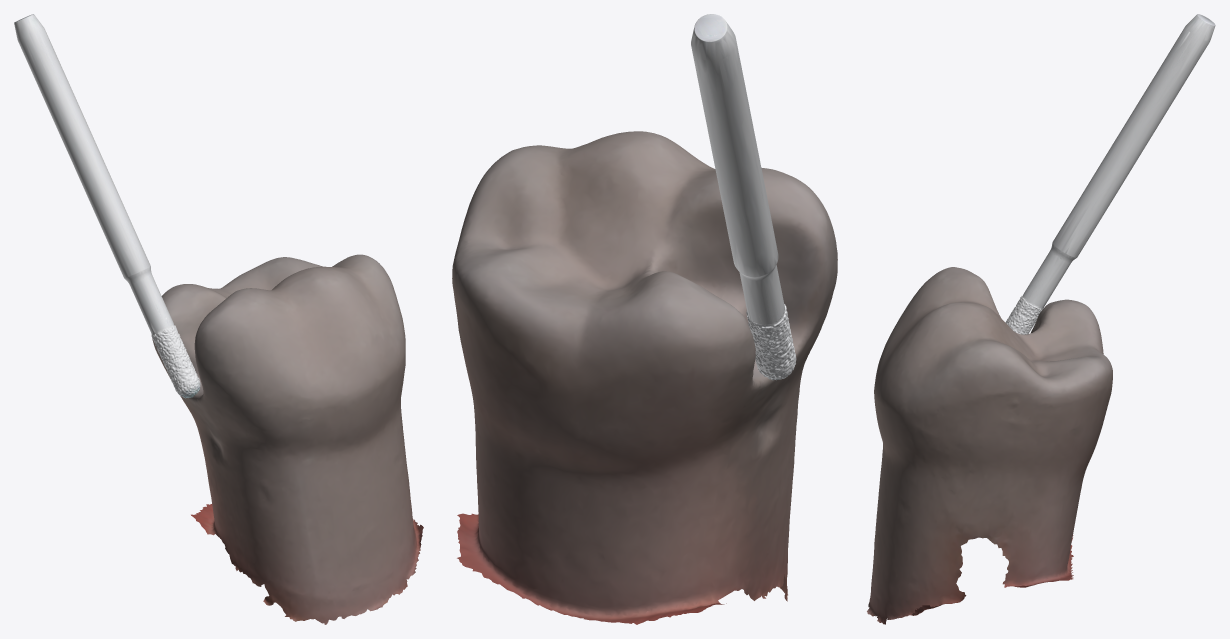
The model's file is 2133_inlay_4.fbx.
3 renders of one model, left to right at view 1: azimuth 30°, elevation 25°; view 2: azimuth 150°, elevation 25°; view 3: azimuth 270°, elevation 25°, orthographic. The views are drawn at different scales.
Visible parts, largest first — view 1: PIEZA 36 SOLA, Mesh_0, Mesh_0.001; view 2: PIEZA 36 SOLA, Mesh_0, Mesh_0.001; view 3: PIEZA 36 SOLA, Mesh_0, Mesh_0.001.
Part boxes in pixels (left/top/right/bottom): PIEZA 36 SOLA: left=151, top=254, right=423, bottom=624; Mesh_0: left=14, top=14, right=173, bottom=333; Mesh_0.001: left=151, top=324, right=200, bottom=398; PIEZA 36 SOLA: left=452, top=131, right=837, bottom=624; Mesh_0: left=691, top=14, right=784, bottom=324; Mesh_0.001: left=746, top=304, right=796, bottom=380; PIEZA 36 SOLA: left=867, top=267, right=1112, bottom=624; Mesh_0: left=1023, top=14, right=1215, bottom=307; Mesh_0.001: left=1005, top=295, right=1044, bottom=334.
Bounding box in the file's own units: 142 × 264 × 162.
2 materials, 1 textured.
